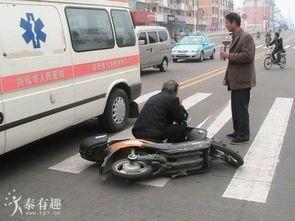Fall-Detected: (128, 74, 195, 144)
